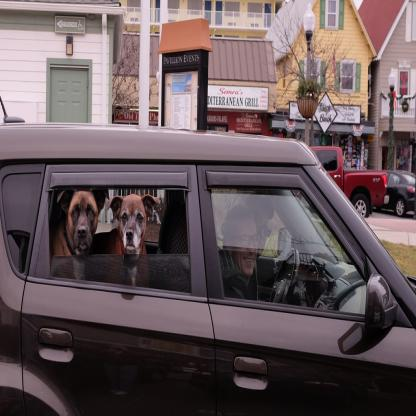Car: (1, 97, 416, 416), (310, 147, 389, 222), (386, 169, 416, 214)
